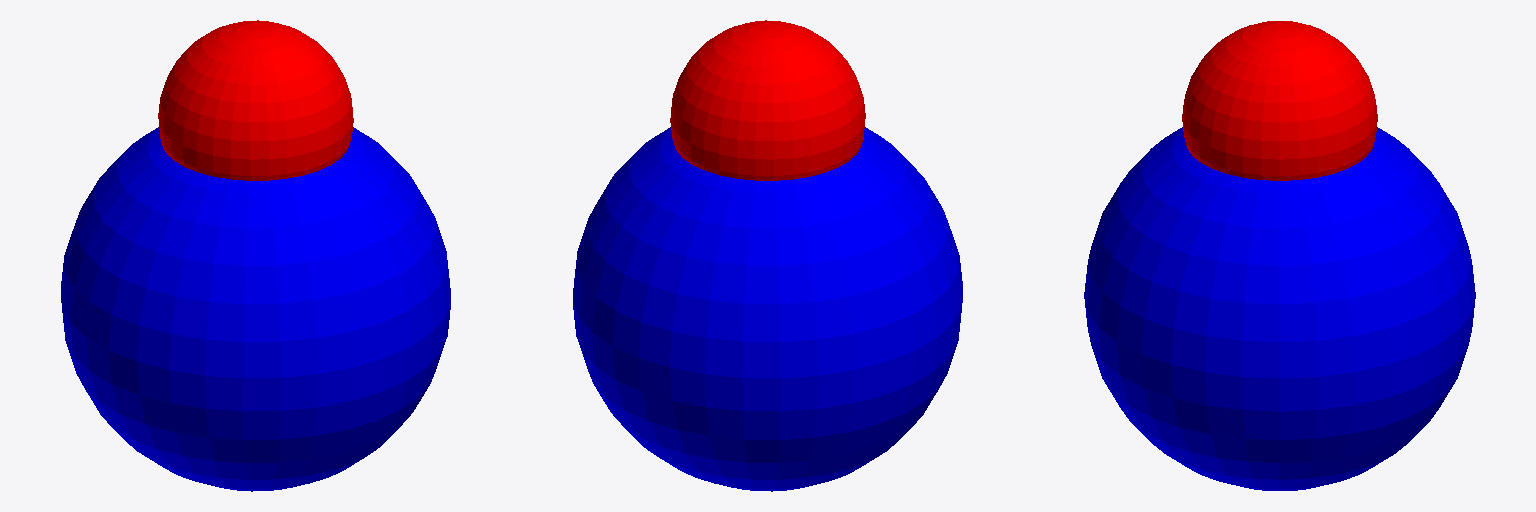
The robot description file, URDF, robot "ORBIT":
<?xml version="1.0" ?>
<!-- =================================================================================== -->
<!-- |    This document was autogenerated by xacro from urdf/bb8.urdf.xacro            | -->
<!-- |    EDITING THIS FILE BY HAND IS NOT RECOMMENDED                                 | -->
<!-- =================================================================================== -->
<robot name="ORBIT">
  <!-- Fottprint, bottom of the sphere, contact point with the terrain -->
  <link name="base_footprint">
    <collision>
      <geometry>
        <cylinder length="0.449" radius="0.165"/>
      </geometry>
    </collision>
  </link>
  <!-- Center of the sphere, revolution pivit point for the head -->
  <link name="base_link">
    <visual>
      <geometry>
        <sphere radius="0.165"/>
      </geometry>
      <material name="blue">
        <color rgba="0 0 1 1"/>
      </material>
      <!-- <geometry>
                <mesh filename="$(find bb8)/meshes/sphere.stl"/>
            </geometry> -->
    </visual>
  </link>
  <!-- Servo link, revolution for the head -->
  <link name="servo_link"/>
  <!-- Head base, point where the middle of the head "touches" the sphere -->
  <link name="head_link">
    <visual>
      <geometry>
        <sphere radius="0.0825"/>
      </geometry>
      <material name="red">
        <color rgba="1 0 0 1"/>
      </material>
      <!-- <geometry>
                <mesh filename="$(find bb8)/meshes/sphere.stl"/>
            </geometry> -->
    </visual>
  </link>
  <!-- IMU in the sphere -->
  <link name="sphere_imu"/>
  <!-- Lidar -->
  <link name="laser"/>
  <!-- IMU in the head -->
  <link name="head_imu"/>
  <!-- Revolution center point for the head -->
  <joint name="base_joint" type="fixed">
    <parent link="base_footprint"/>
    <child link="base_link"/>
    <origin rpy="0 0 0" xyz="0 0 0.165"/>
  </joint>
  <!-- Fixed mount sphere IMU -->
  <joint name="sphere_imu_joint" type="fixed">
    <parent link="base_footprint"/>
    <child link="sphere_imu"/>
    <origin rpy="0 0 0" xyz="0 0 0.165"/>
  </joint>
  <!-- Revolute joint of the sphere: allows pitching only -->
  <joint name="head_joint" type="revolute">
    <parent link="base_link"/>
    <child link="servo_link"/>
    <!-- Offset joint pivot radius above base center -->
    <origin rpy="0 0 0" xyz="0 0 0"/>
    <!-- Axis along Y for forward/back tilt -->
    <axis xyz="0 1 0"/>
    <!-- Limit motion to ±45° -->
    <limit effort="1.0" lower="-0.7853981633974483" upper="0.7853981633974483" velocity="1.0"/>
  </joint>
  <!-- Head link: Lenght of the servo link -->
  <joint name="head_joint" type="fixed">
    <parent link="servo_link"/>
    <child link="head_link"/>
    <origin rpy="0 0 0" xyz="0 0 0.165"/>
  </joint>
  <!-- Fixed mount lidar_height above head for lidar -->
  <joint name="lidar_joint" type="fixed">
    <parent link="head_link"/>
    <child link="laser"/>
    <origin rpy="0 0 0" xyz="0 0 0.119"/>
  </joint>
  <!-- Fixed mount head_imu_height above head for imu -->
  <joint name="head_imu_joint" type="fixed">
    <parent link="head_link"/>
    <child link="head_imu"/>
    <origin rpy="0 0 0" xyz="0 0 0.089"/>
  </joint>
</robot>

--- Render facts (derived) ---
Views: 3 orthographic renders of the robot side by side, from view 1: azimuth 30°, elevation 25°; view 2: azimuth 150°, elevation 25°; view 3: azimuth 270°, elevation 25°.
Robot: ORBIT — 7 links, 6 joints (1 revolute, 5 fixed); root link base_footprint; default pose: every joint at zero.
Visible links, largest first — view 1: base_link, head_link; view 2: base_link, head_link; view 3: base_link, head_link.
Link boxes in pixels (x1=…): base_link: x1=61, y1=127, x2=450, y2=491; head_link: x1=158, y1=20, x2=353, y2=180; base_link: x1=573, y1=127, x2=962, y2=491; head_link: x1=670, y1=20, x2=865, y2=180; base_link: x1=1084, y1=127, x2=1475, y2=490; head_link: x1=1182, y1=21, x2=1377, y2=180.
Bounding box of the posed robot: 0.33 × 0.33 × 0.4125 m (x, y, z).
Geometry: primitives only (box / cylinder / sphere), no mesh files.
